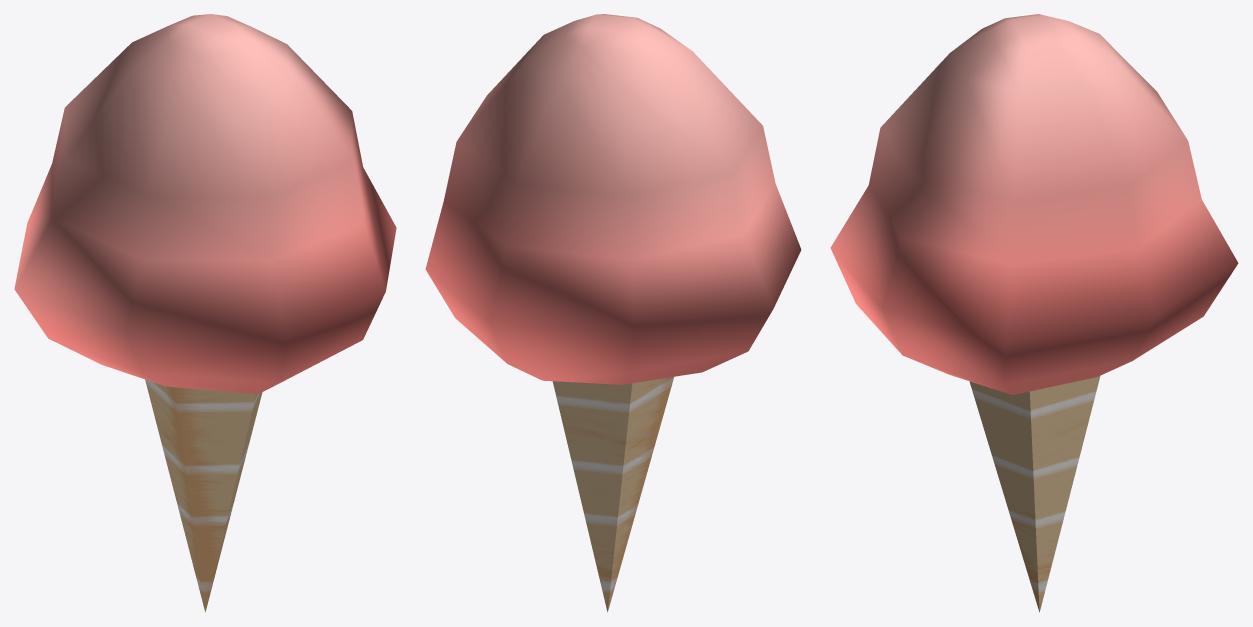
File: CottonCandyPink_small.fbx
3 renders of one model, left to right at view 1: azimuth 30°, elevation 25°; view 2: azimuth 150°, elevation 25°; view 3: azimuth 270°, elevation 25°, orthographic.
Parts seen in each view (by area): view 1: PinkCottonCandy_small; view 2: PinkCottonCandy_small; view 3: PinkCottonCandy_small.
Boxes of the visible parts, left/top/right/bottom form: PinkCottonCandy_small: left=14, top=14, right=396, bottom=612; PinkCottonCandy_small: left=425, top=14, right=801, bottom=612; PinkCottonCandy_small: left=830, top=14, right=1238, bottom=612.
Size of the model in its own units: 35.27 by 56.38 by 35.37.
1 material, 1 textured.
